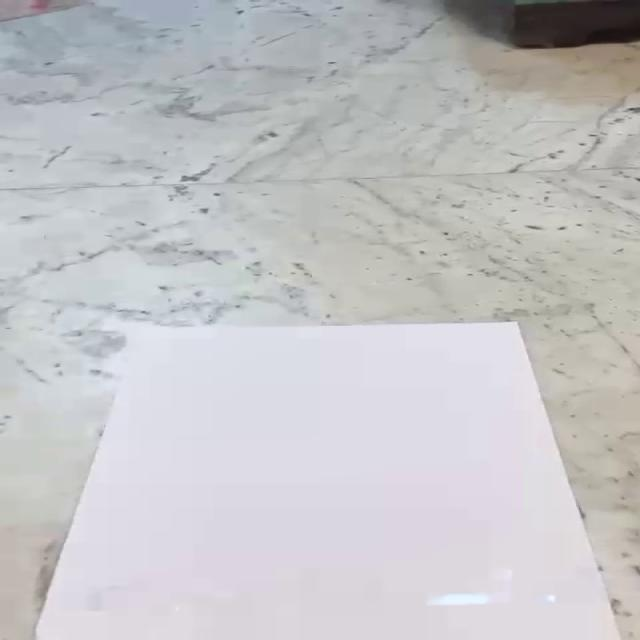road: (35, 322, 627, 640)
